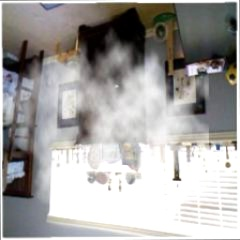smoke: (74, 69, 177, 179)
